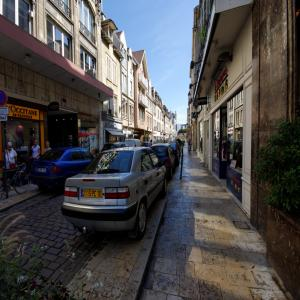Vehicle-registration-plate: (81, 191, 103, 199), (38, 169, 47, 173)
